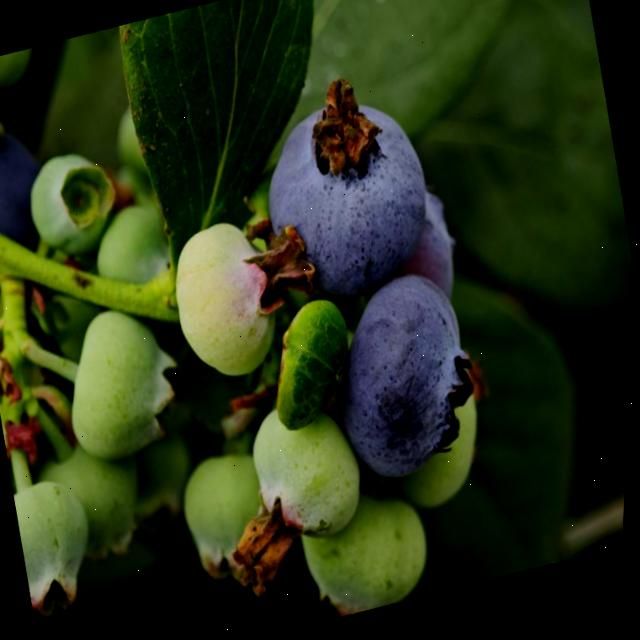RipeBlueBerry: (247, 75, 451, 324), (315, 262, 498, 502)
UnripeBlueBerry: (160, 209, 304, 399)
